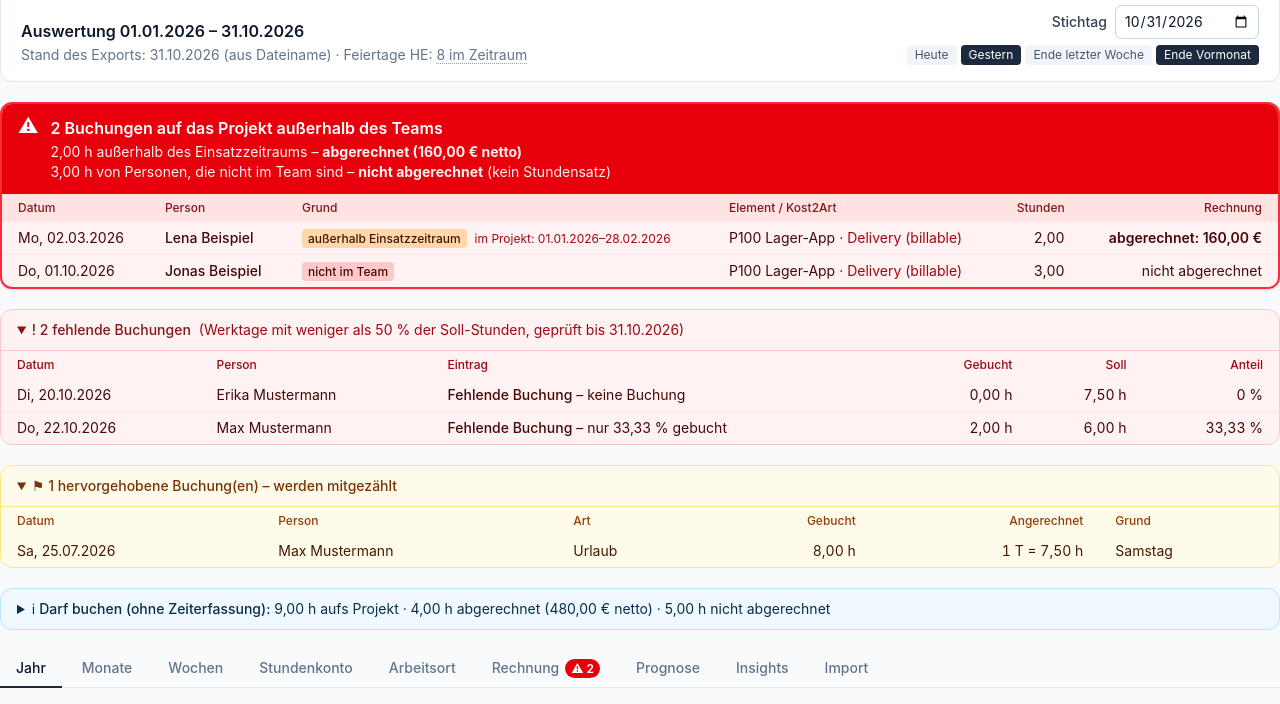
Scenario: ResultsView – Prognose › zeigt die Prognose im eigenen Tab
The width and height of the screenshot is (1280, 704).
Click the tab "Prognose". click: (668, 669)
box: top-left (620, 650), bottom-right (716, 688)
(page scrolled)
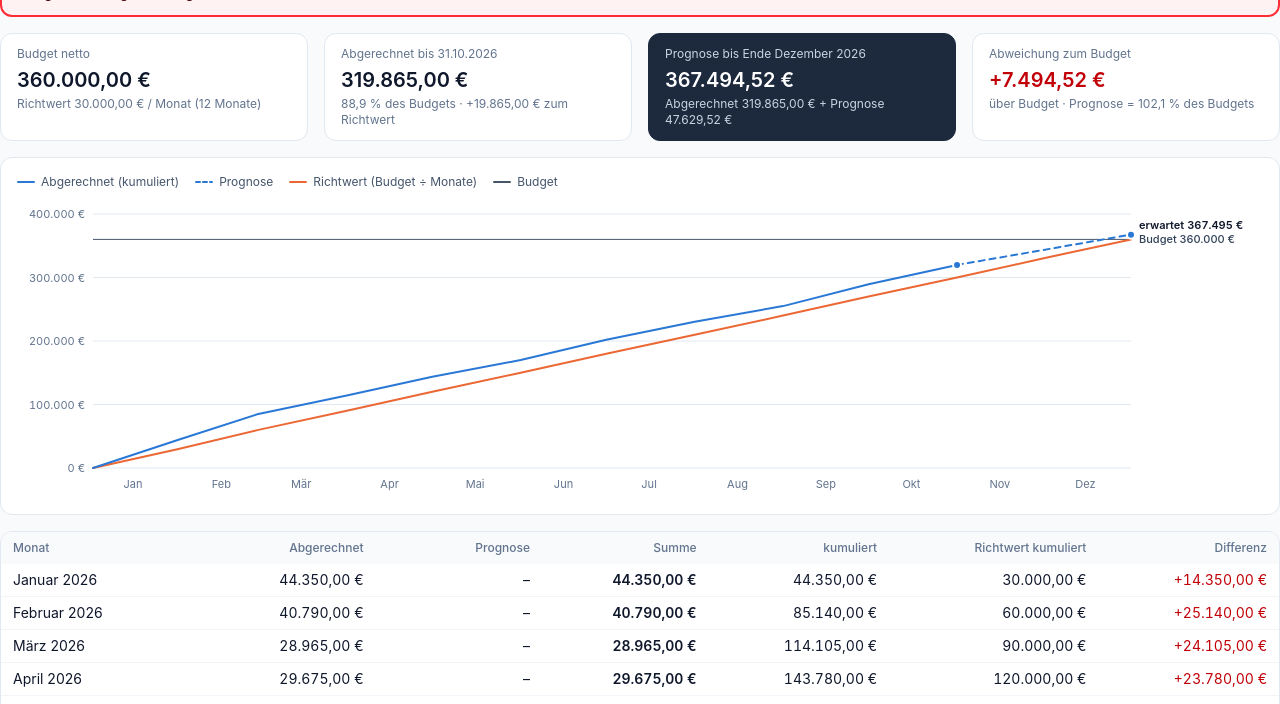
Now the picture named "Abgerechnet und Prognose kumuliert mit Richtwert und Budget" is shown, box top-left (17, 198), bottom-right (1263, 498)
